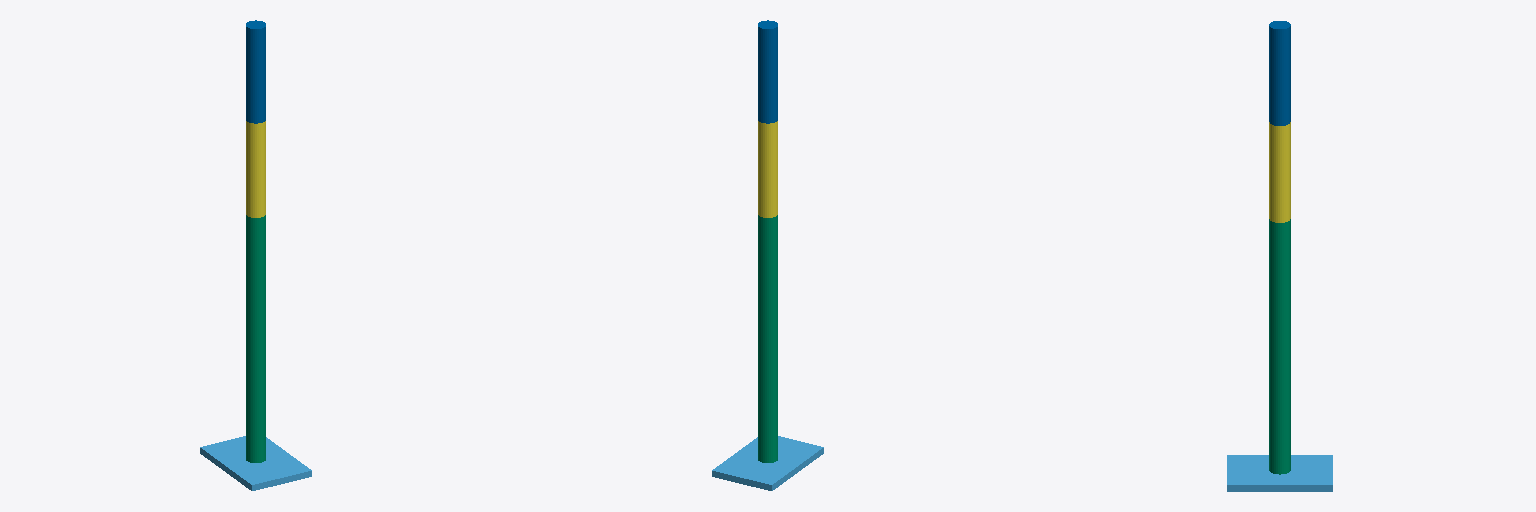
The robot description file, URDF, robot "LISM_Arm":
<?xml version="1.0" ?>
<robot name="LISM_Arm">
     <!--base of fixing arm-->
    <link name="world"/>

    <joint name="worldTobase" type="fixed">
        <parent link="world"/>
        <child link="base"/>
        <origin rpy="0 0 0" xyz="0.0 0.0 0.0"/>
    </joint>
    
    <link name="base">
        <visual>
            <origin rpy="0.0 0.0 0.0" xyz="0 0 0.01"/>
            <geometry>
                <box size = "0.2 0.3 0.02"/>
            </geometry>
        </visual>
    </link>

    <joint name="BaseToLink" type="revolute">
        <axis xyz="-1 0 0"/>
        <origin rpy="0 0 0" xyz="0.0 0.0 0.0"/>
        <parent link="base"/>
        <child link="link1"/>
    </joint>

    <link name="link1">
        <visual>
            <origin rpy="0.0 0.0 0.0" xyz="0 0 0.4"/>
            <geometry>
                <cylinder length="0.8" radius="0.03"/>
            </geometry>
        </visual>
        <inertial>
            <mass value="0.5"/>
            <origin rpy="0.0 0.0 0.0" xyz="0 0 0.4"/>
            <inertia ixx="0.035" ixy="0" ixz="0.0" iyy="0.035" iyz="0" izz="0.036"/>
        </inertial>
    </link>

    <joint name="l12l2" type="revolute">
        <axis xyz="-1 0 0"/>
        <origin rpy="0 0 0" xyz="0.0 0.0 0.8"/>
        <parent link="link1"/>
        <child link="link2"/>
    </joint>

    <link name="link2">
        <visual>
            <origin rpy="0.0 0.0 0.0" xyz="0 0 0.15"/>
            <geometry>
                <cylinder length="0.3" radius="0.03"/>
            </geometry>
        </visual>
        <inertial>
            <mass value="0.2"/>
            <origin rpy="0.0 0.0 0.0" xyz="0 0 0.15"/>
            <inertia ixx="0.02" ixy="0" ixz="0.0" iyy="0.02" iyz="0" izz="0.03"/>
        </inertial>
    </link>

    <joint name="l22l3" type="revolute">
        <axis xyz="-1 0 0"/>
        <origin rpy="0 0 0" xyz="0.0 0.0 0.3"/>
        <parent link="link2"/>
        <child link="link3"/>
    </joint>

    <link name="link3">
        <visual>
            <origin rpy="0.0 0.0 0.0" xyz="0 0 0.15"/>
            <geometry>
                <cylinder length="0.3" radius="0.03"/>
            </geometry>
        </visual>
        <inertial>
            <mass value="0.2"/>
            <origin rpy="0.0 0.0 0.0" xyz="0 0 0.15"/>
            <inertia ixx="0.02" ixy="0" ixz="0.0" iyy="0.02" iyz="0" izz="0.03"/>
        </inertial>
    </link>



   

</robot>

--- Render facts (derived) ---
3 views of the same robot in one strip: view 1: azimuth 30°, elevation 25°; view 2: azimuth 150°, elevation 25°; view 3: azimuth 270°, elevation 25° (orthographic).
Robot: LISM_Arm — 5 links, 4 joints (3 revolute, 1 fixed); root link world; default pose: every joint at zero.
Links seen in each view (by area): view 1: link1, base, link3, link2; view 2: link1, base, link3, link2; view 3: link1, base, link3, link2.
Boxes of the visible links, x1,y1,x2,y2 form: link1: (246,215,265,462); base: (200,436,311,490); link3: (246,20,265,123); link2: (246,121,265,217); link1: (758,215,777,462); base: (712,436,823,490); link3: (758,20,777,123); link2: (758,121,777,217); link1: (1269,219,1290,474); base: (1227,455,1332,491); link3: (1269,21,1290,125); link2: (1269,122,1290,222).
Size in the robot's own frame: 0.2 by 0.3 by 1.4 metres.
Geometry: primitives only (box / cylinder / sphere), no mesh files.
